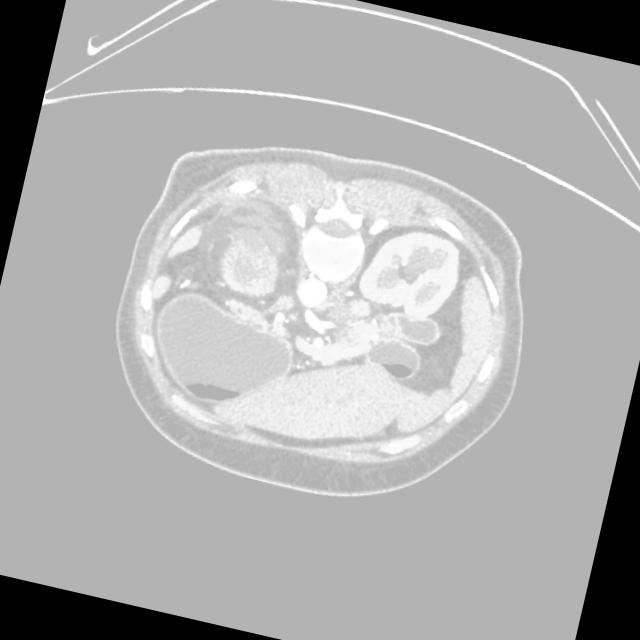TUMOR: (86, 207, 580, 475)
